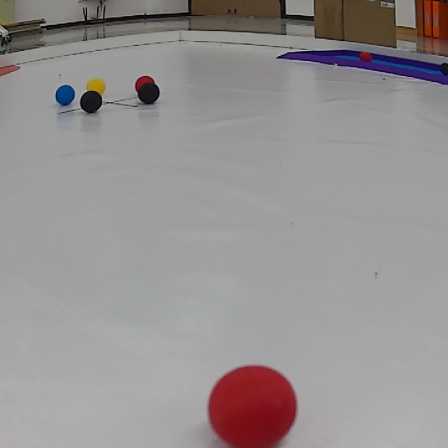black: (79, 88, 102, 116), (136, 83, 161, 105)
blue: (52, 83, 76, 104)
blue_aim: (279, 40, 448, 85)
red: (205, 364, 298, 446), (133, 70, 156, 92), (358, 50, 375, 64)
red_base: (0, 61, 22, 78)
yellow: (86, 76, 108, 96)
